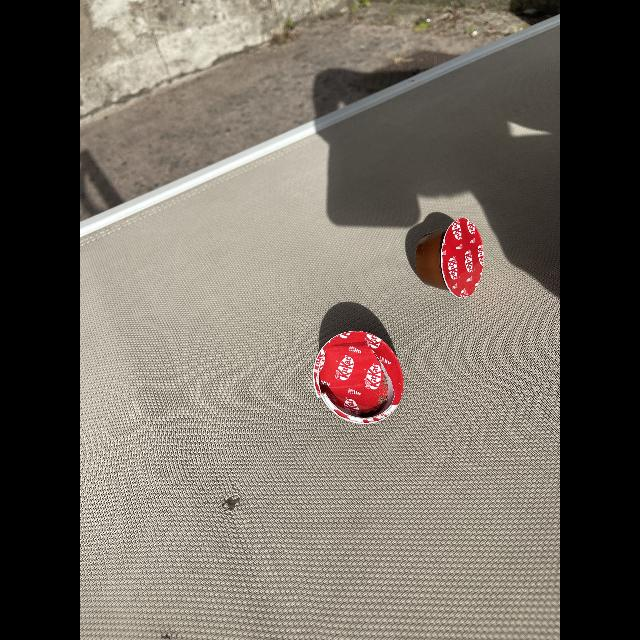damaged_capsule: (310, 328, 408, 426)
intact_capsule: (408, 214, 489, 300)
